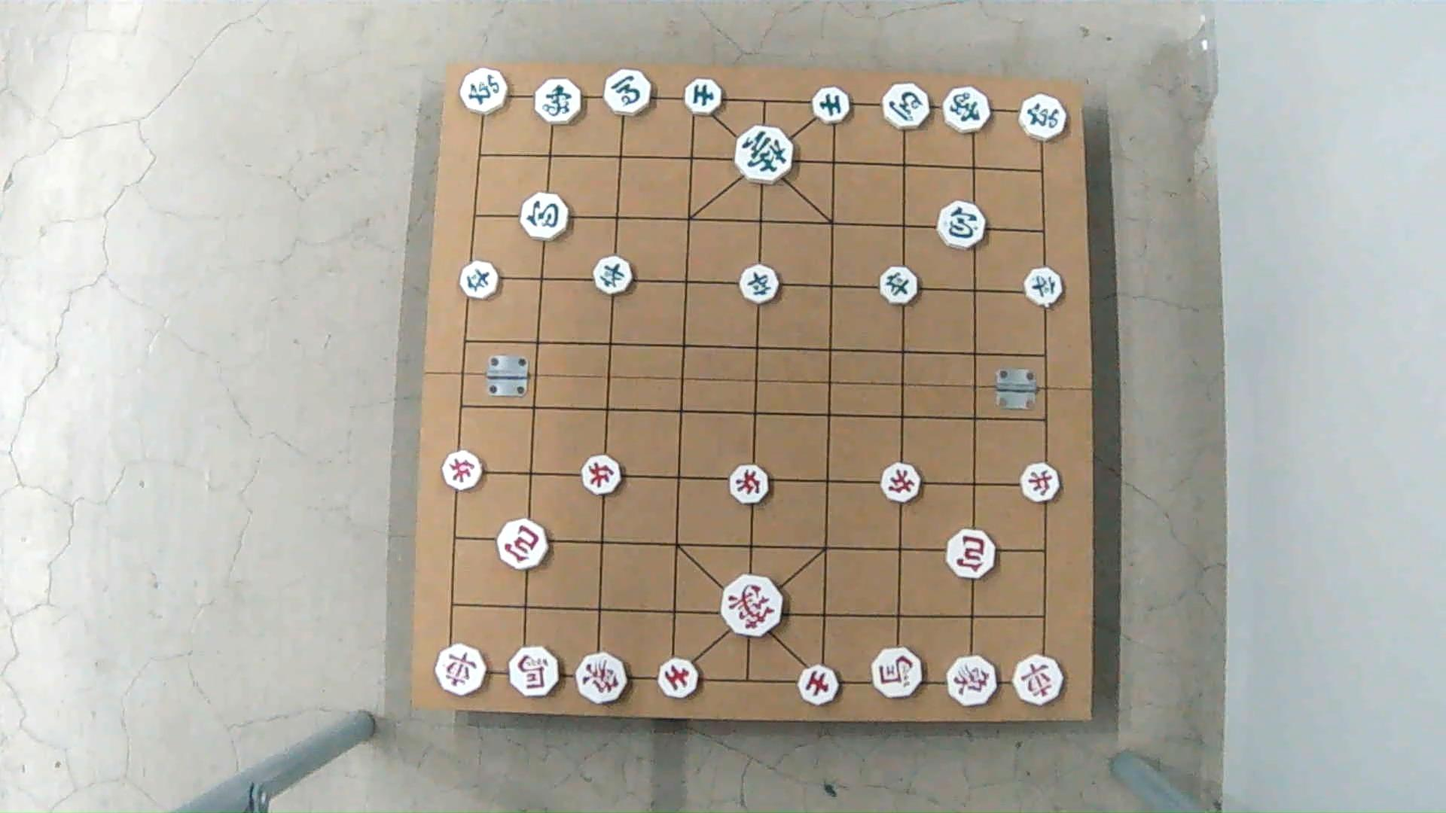cha_green: (1020, 93, 1067, 140), (460, 71, 511, 114)
cha_red: (433, 647, 488, 696), (1012, 657, 1068, 705)
jol_green: (739, 267, 782, 303), (457, 263, 501, 298), (591, 257, 636, 291), (1020, 270, 1063, 303), (877, 269, 919, 302)
jol_red: (578, 457, 624, 493), (728, 466, 771, 504), (1019, 464, 1062, 501), (444, 452, 488, 487), (880, 467, 923, 502)
ma_green: (882, 84, 933, 128), (604, 72, 654, 114)
ma_red: (868, 650, 923, 698), (511, 644, 557, 698)
po_green: (520, 194, 572, 238), (938, 202, 989, 245)
po_red: (496, 522, 551, 566), (944, 534, 996, 577)
sa_green: (685, 80, 725, 113), (812, 89, 852, 122)
sa_red: (797, 664, 842, 708), (656, 656, 699, 699)
sang_green: (532, 81, 584, 124), (941, 91, 992, 133)
sang_red: (943, 657, 998, 707), (573, 650, 625, 702)
wang_green: (735, 127, 796, 180)
wang_red: (717, 580, 783, 635)
